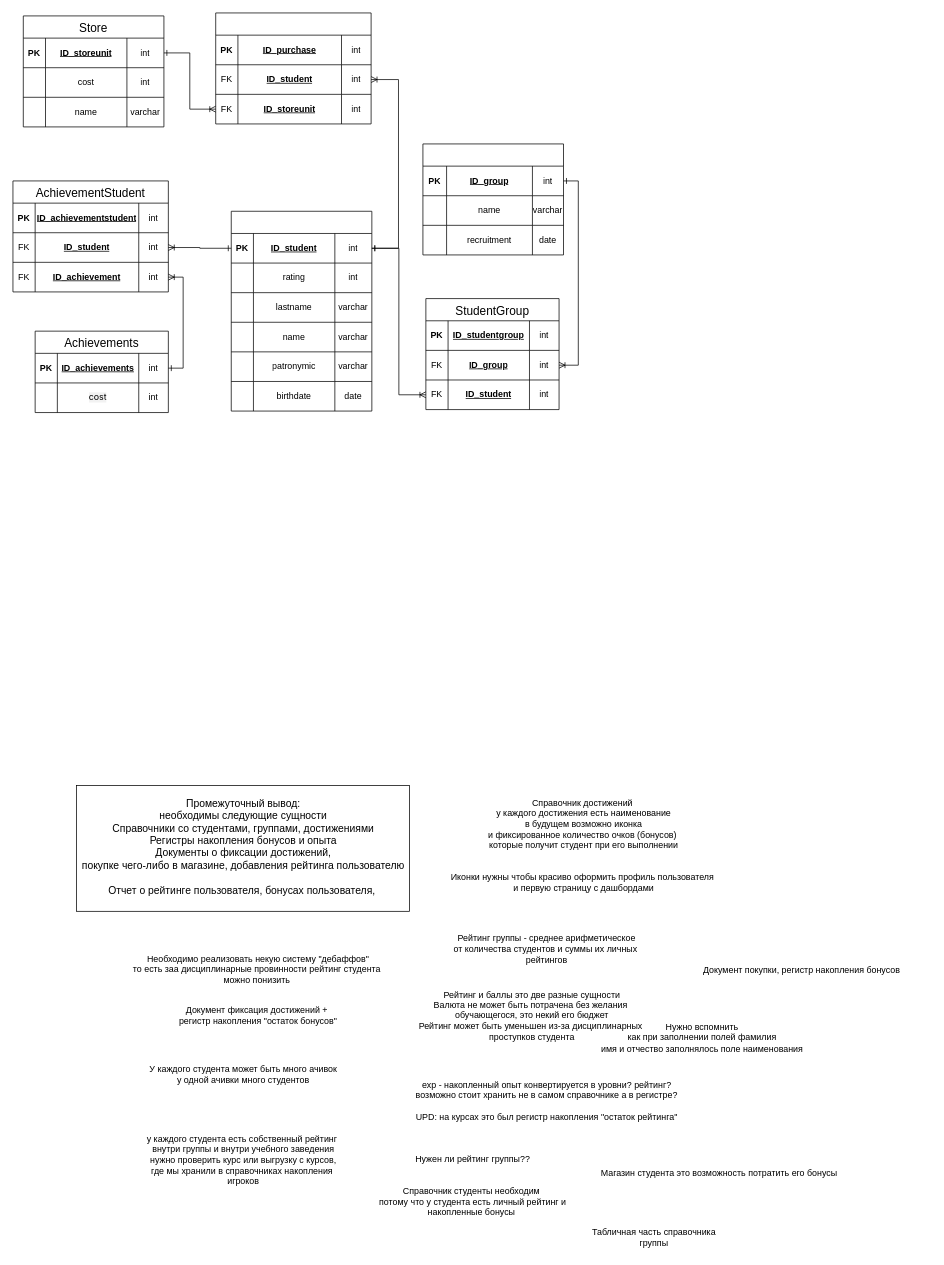
Some shapes in this 944 by 1265 pixel diagram are drawn without their labels. Each missing label, with the box of its shape:
Groups: (422, 143, 564, 255)
PurchaseHistory: (215, 12, 371, 124)
Students: (231, 211, 372, 411)
